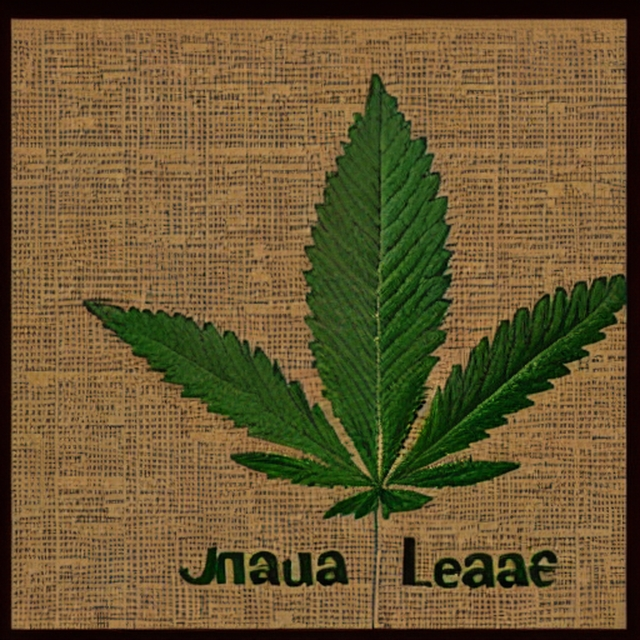Marijuana Leaf: (81, 71, 625, 521)
